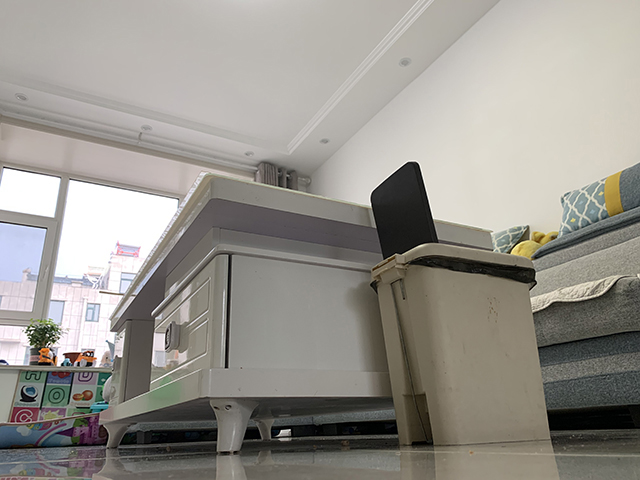table: (97, 170, 495, 456)
trashcan: (367, 161, 553, 449)
